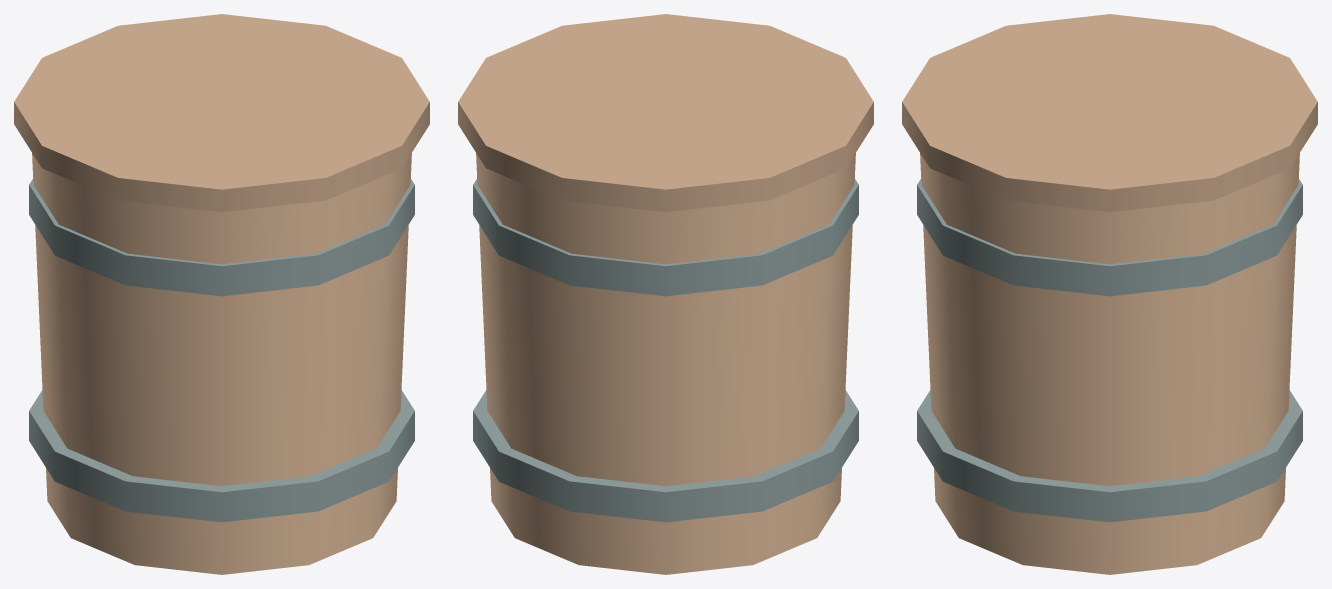
The model's file is sideDrum.glb.
3 renders of one model, left to right at view 1: azimuth 30°, elevation 25°; view 2: azimuth 150°, elevation 25°; view 3: azimuth 270°, elevation 25°, orthographic.
Visible parts, largest first — view 1: sideDrum; view 2: sideDrum; view 3: sideDrum.
Part boxes in pixels (x1,y1,x2,y2): sideDrum: (14,14,429,574); sideDrum: (458,14,873,574); sideDrum: (902,14,1317,574).
Size of the model in its own units: 0.25 by 0.265 by 0.25.
